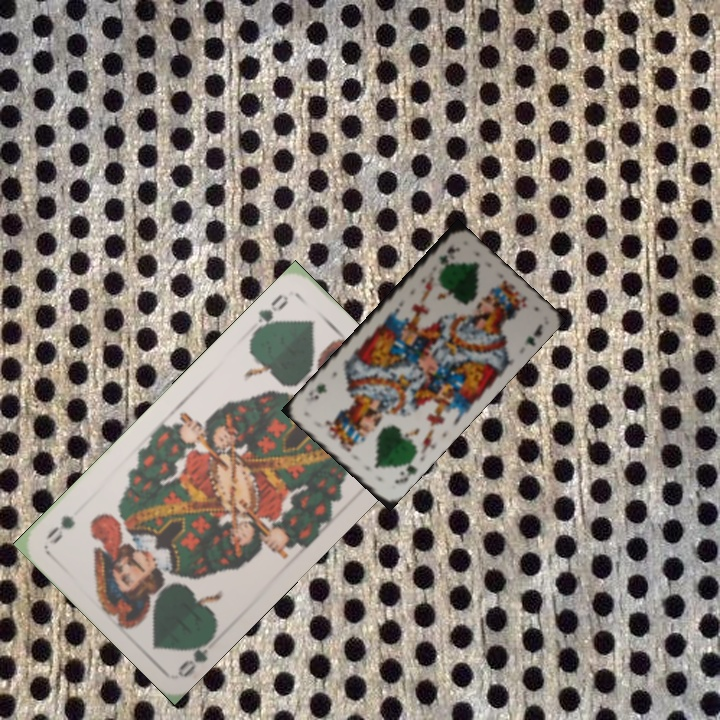GK: (390, 455, 420, 487), (435, 241, 462, 267)
GO: (174, 627, 219, 679), (248, 289, 291, 338)
